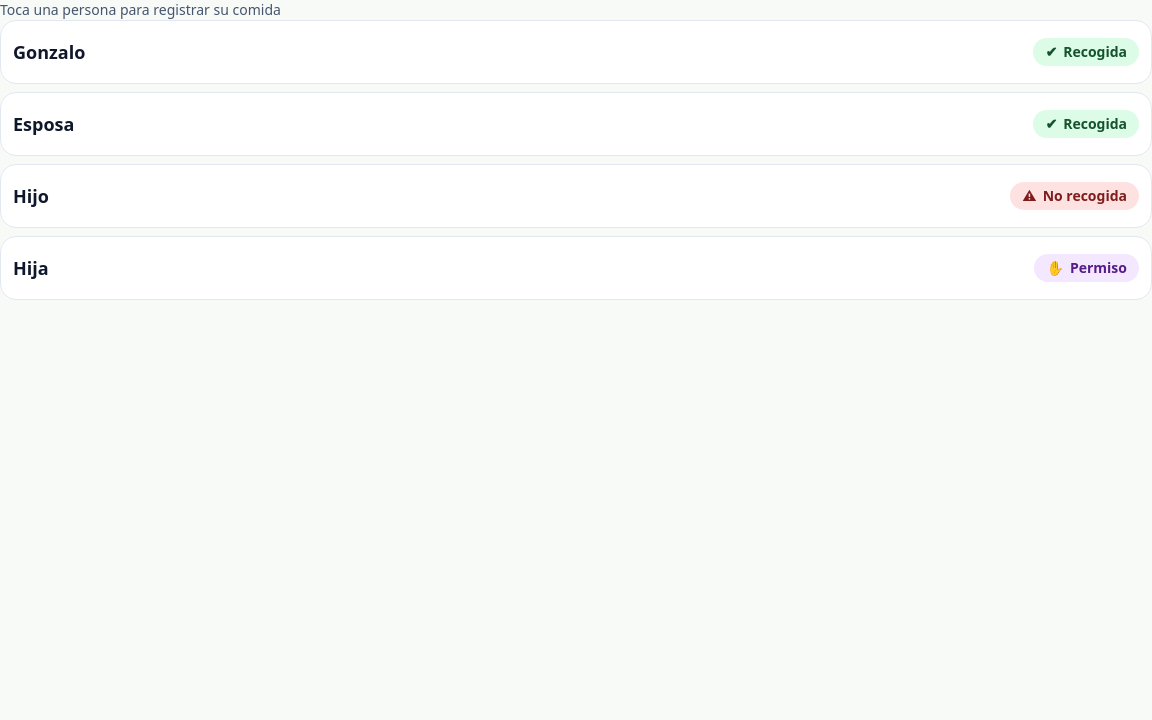
Test: Today: all people (spec US4) › opens one person's actions on tap, without showing the others' buttons
Expected: the button "cancelé" is not shown
Click the button "Hijo ⚠ No recogida".
click(31, 196)  # box left=0, top=164, right=1151, bottom=228
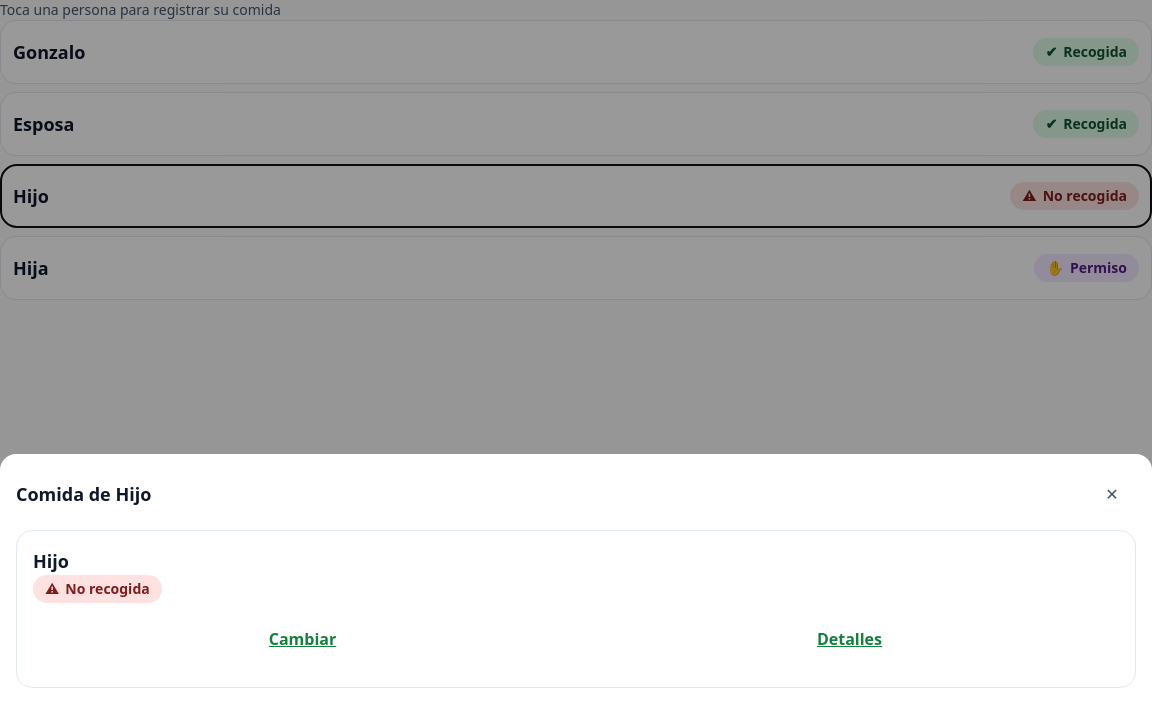
Expected: the heading "Comida de Hijo" is shown, left=16, top=480, right=151, bottom=508
Click the button "Cambiar".
click(302, 639)  # box left=33, top=615, right=572, bottom=663
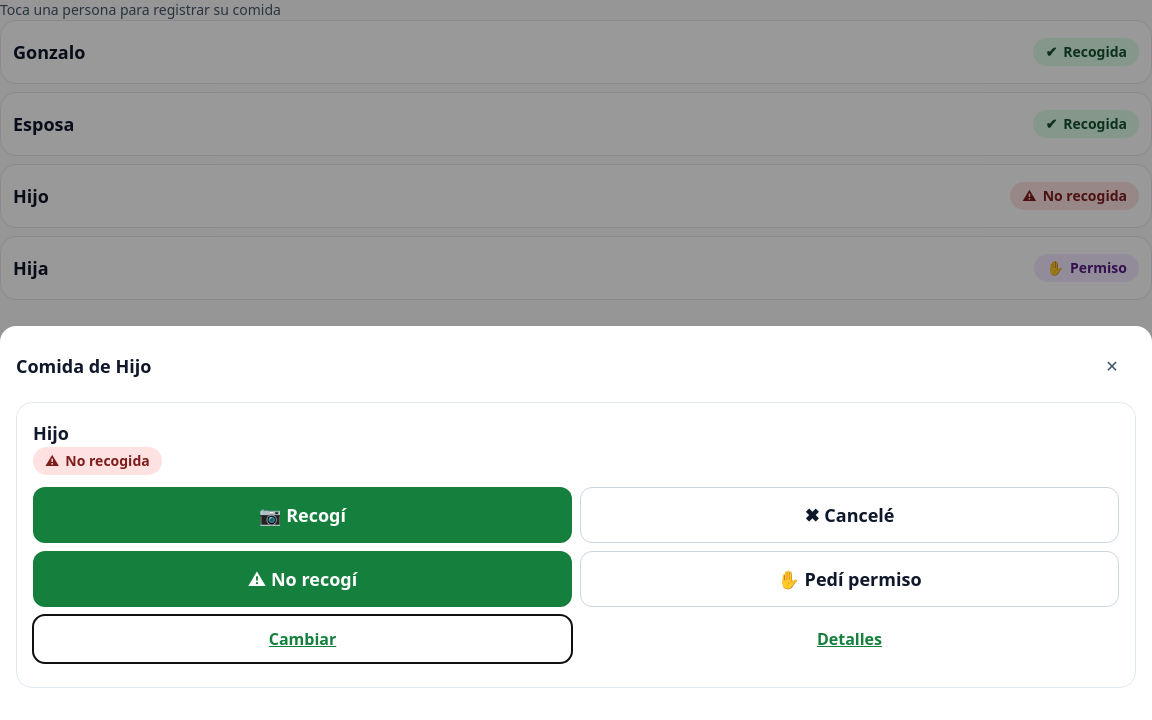
Expected: the button "✖ Cancelé" is shown, left=580, top=487, right=1119, bottom=543
